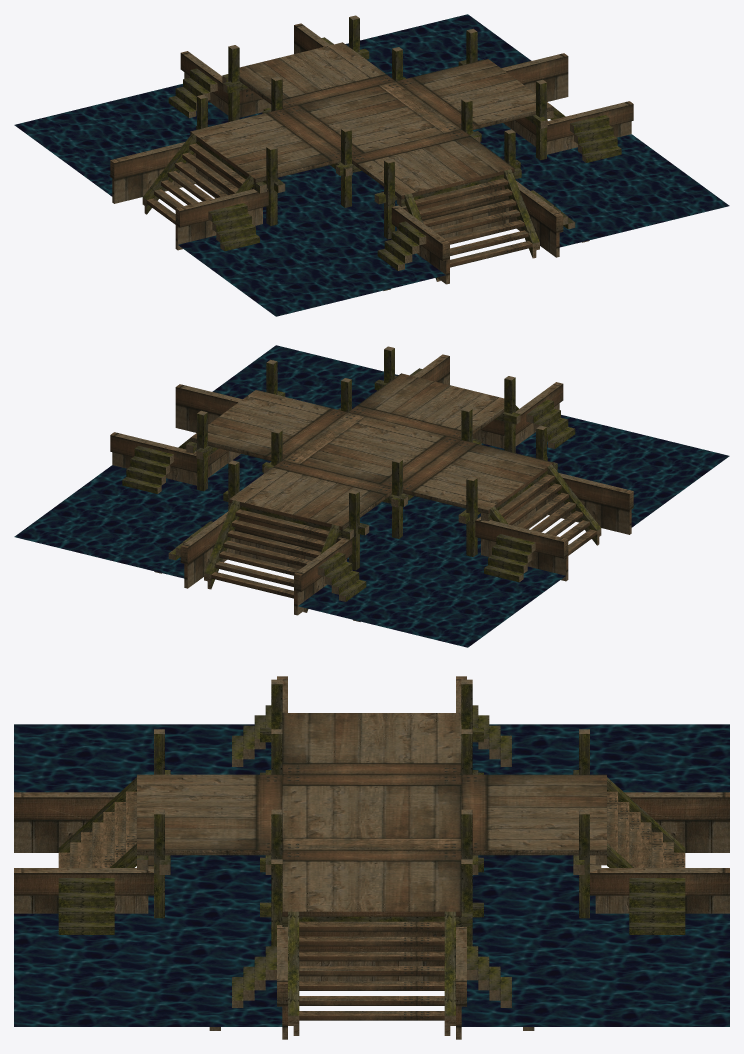
Rendered from wooddungeonInt4.gltf.
3 renders of one model, top to bottom at view 1: azimuth 30°, elevation 25°; view 2: azimuth 150°, elevation 25°; view 3: azimuth 270°, elevation 25°, orthographic. The views are drawn at different scales.
Visible parts, largest first — view 1: wooddungeonInt4; view 2: wooddungeonInt4; view 3: wooddungeonInt4.
Boxes of the visible parts, x1=… form: wooddungeonInt4: x1=14, y1=14, x2=729, y2=316; wooddungeonInt4: x1=14, y1=345, x2=729, y2=647; wooddungeonInt4: x1=14, y1=676, x2=729, y2=1039.
Bounding box in the file's own units: 32 × 6.5 × 32.
Materials: 3 (3 with a texture image).
